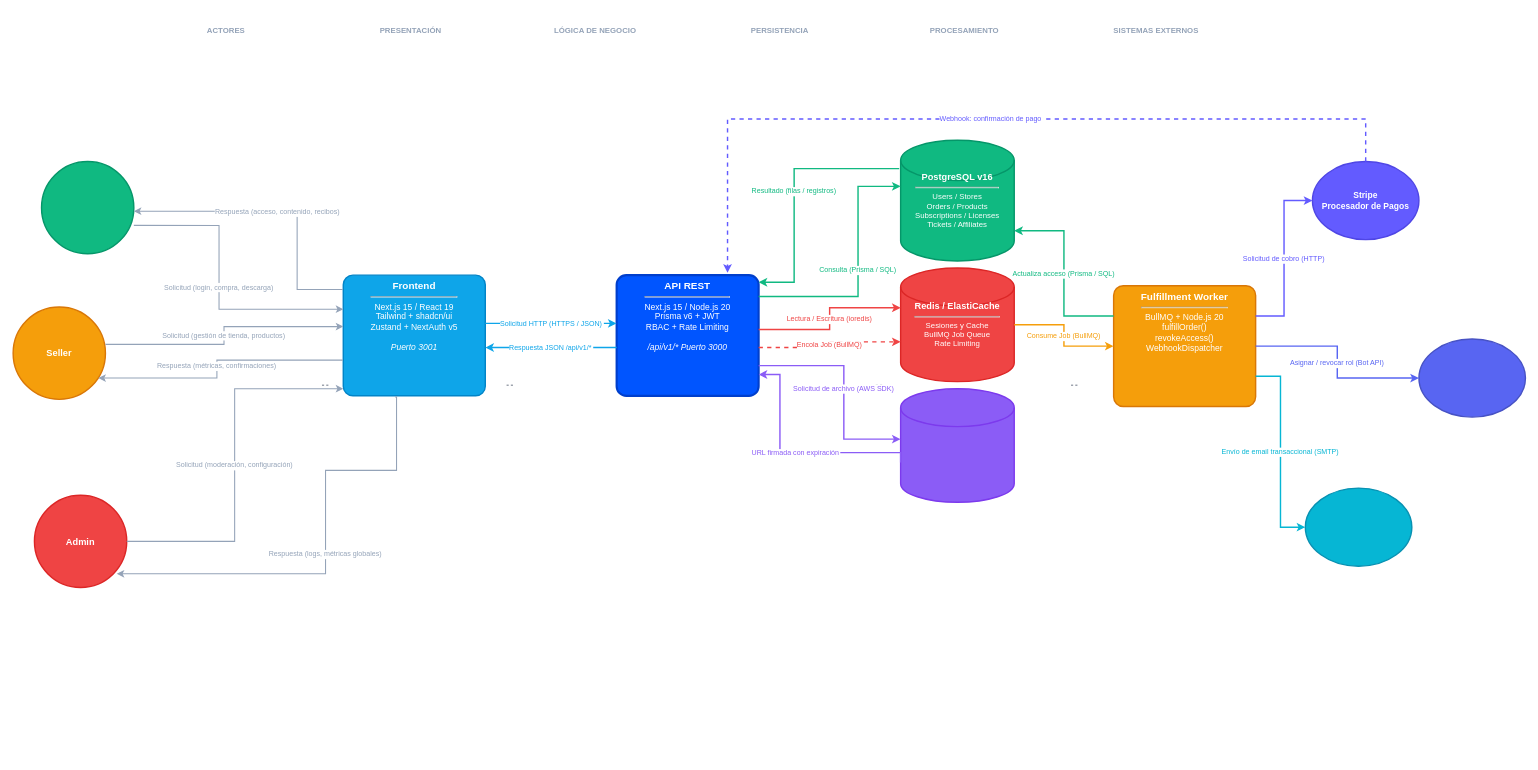
The diagram is 1538 pixels wide and 770 high, and some of its shapes have lost their labels. The centre of each missing label's shape, as x and y in pixels:
"AWS S3 Archivos Digitales PDFs / ZIPs / Software URLs Firmadas" belongs at pixel 957 445.
"Comprador" belongs at pixel 87 207.
"Discord / Telegram Comunidades y Grupos" belongs at pixel 1472 377.
"Servicio Email Notificaciones Transaccionales" belongs at pixel 1358 527.
